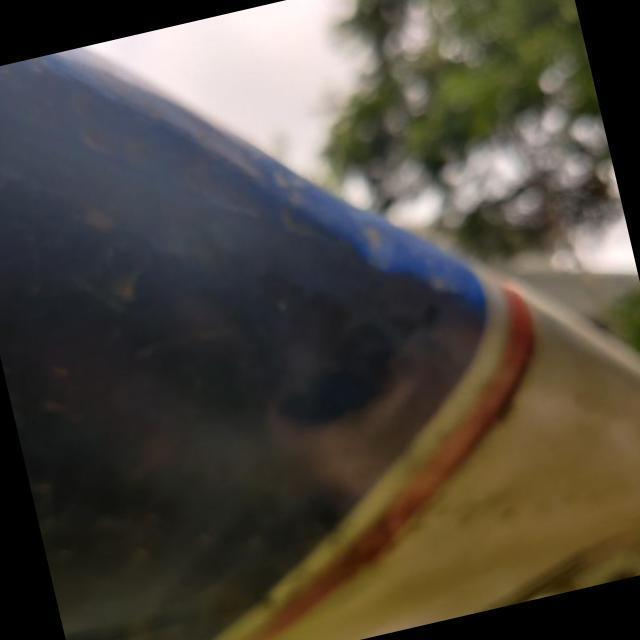Dent: (219, 276, 442, 481)
